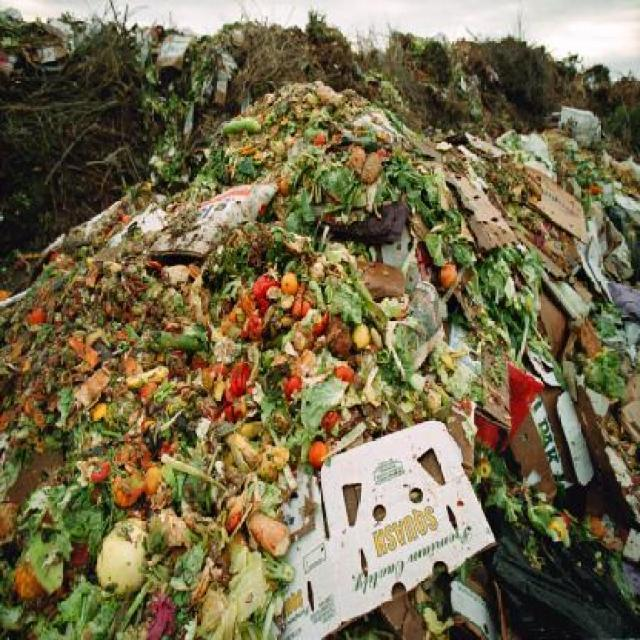garbage: (2, 86, 640, 640)
